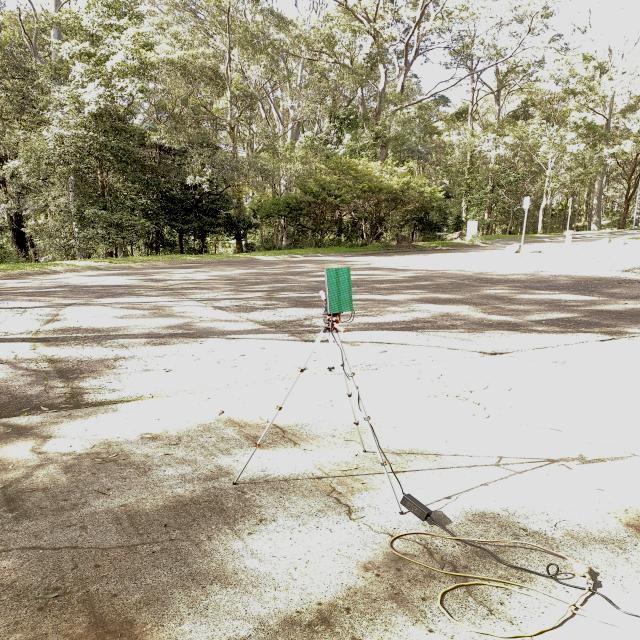matrix: (318, 265, 361, 319)
